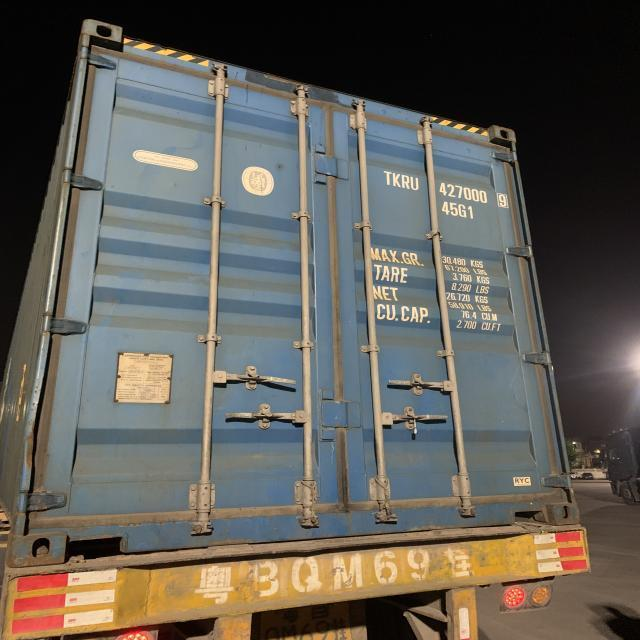ISO: (440, 198, 476, 220)
container_number: (386, 170, 509, 200)
